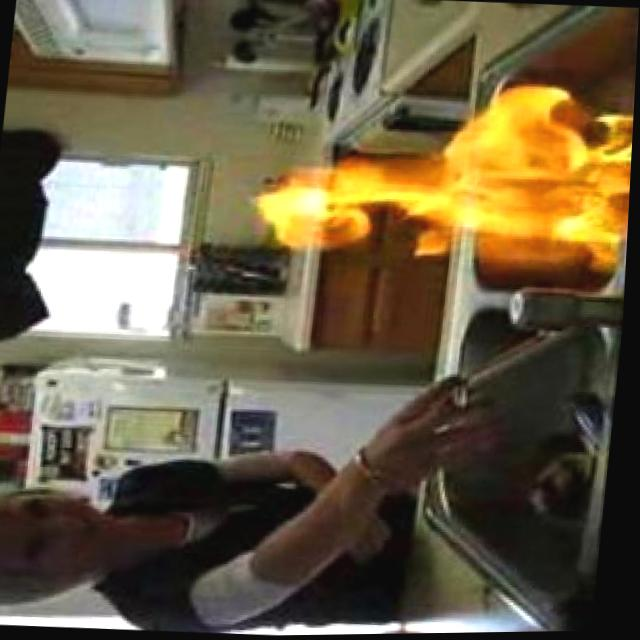Fire: (415, 74, 637, 277), (247, 140, 443, 257)
